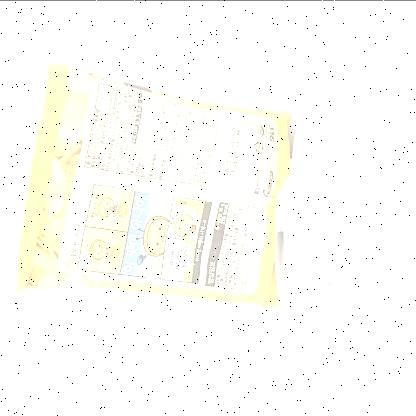Others: (10, 54, 306, 310)
